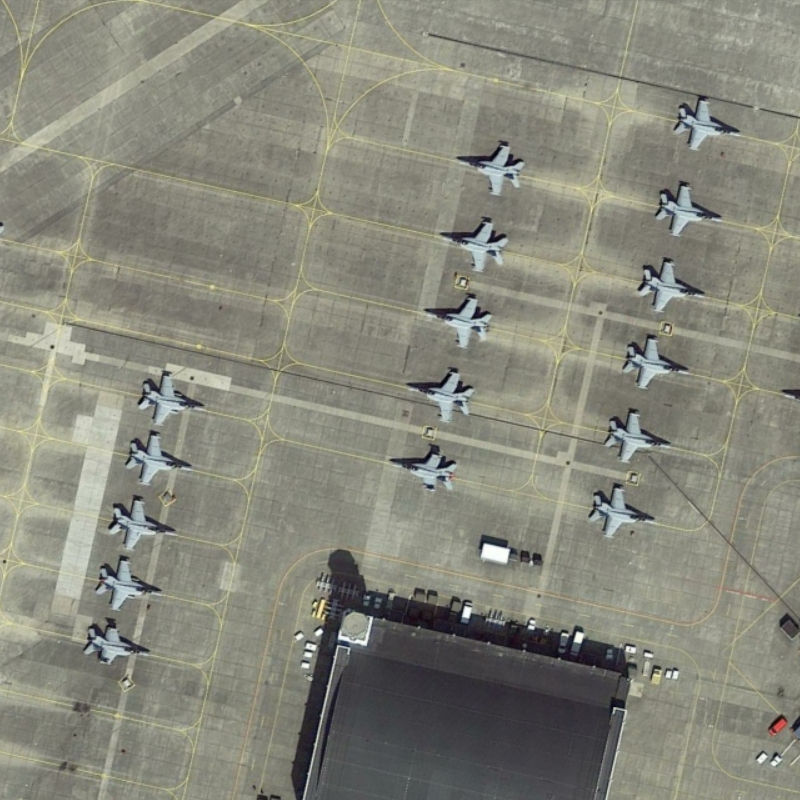A16: (597, 400, 682, 471), (615, 327, 698, 397), (430, 211, 515, 279), (449, 133, 535, 200), (626, 251, 713, 316), (580, 478, 663, 545), (132, 361, 214, 428), (382, 439, 466, 504), (118, 427, 202, 491), (103, 492, 190, 553), (650, 177, 730, 243), (670, 86, 745, 155), (419, 289, 497, 355), (91, 549, 170, 613), (404, 361, 477, 428), (77, 618, 159, 676)
